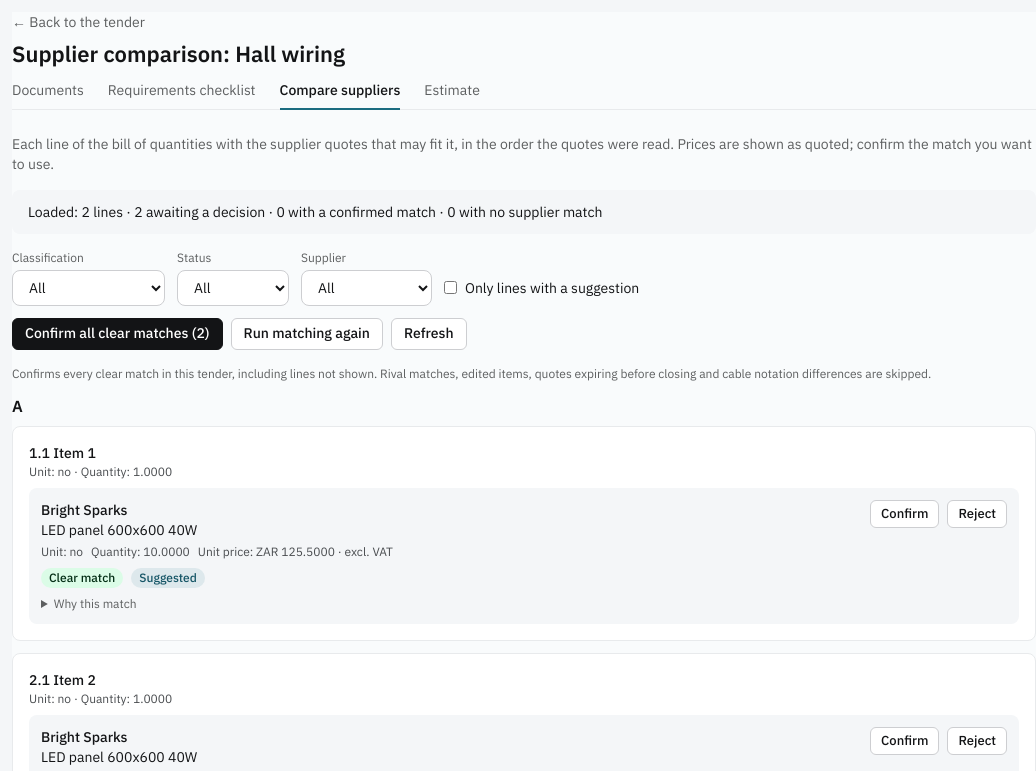
Test: ComparisonView › explains skipped rows after confirm-all, but only when something was skipped
Click the button "Confirm all clear matches (2)" at (117, 334), box [12,318,222,350]
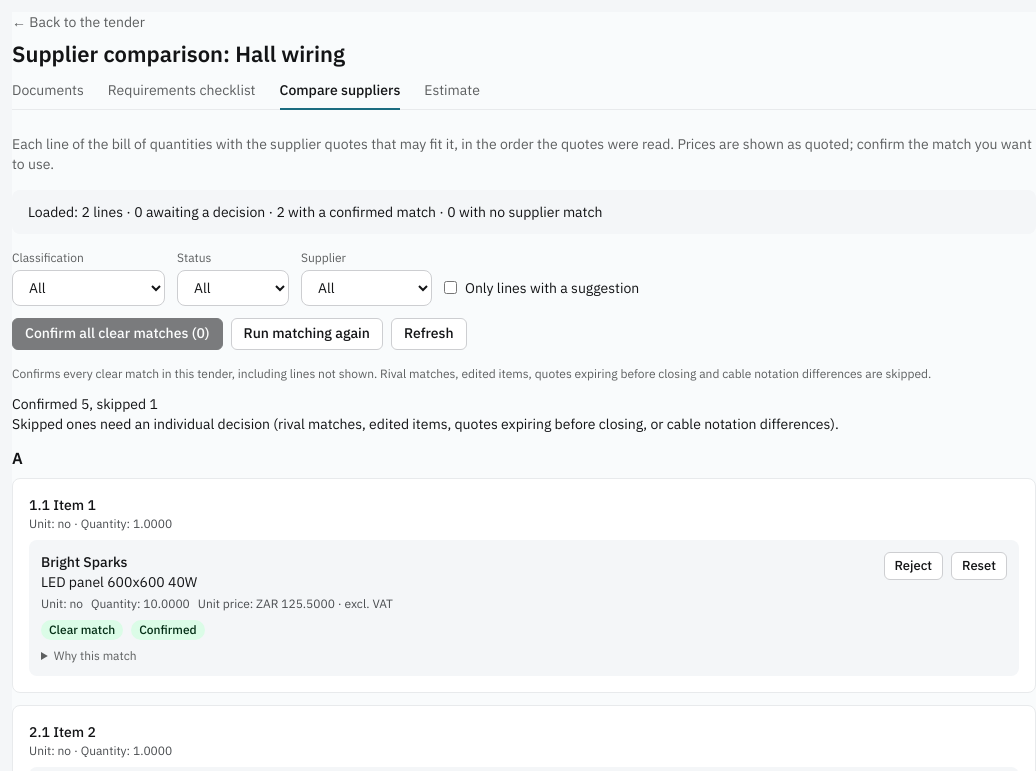
expect the text "Skipped ones need an individual decision (rival matches, edited items, quotes expiring before closing, or cable notatio" is shown: met, box [12,414,839,432]
